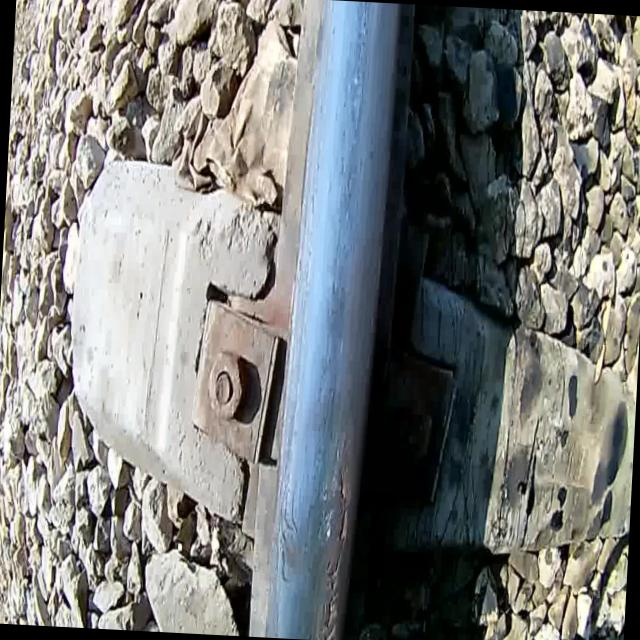Cracks: (260, 479, 314, 598)
Spallings: (307, 431, 368, 640)
